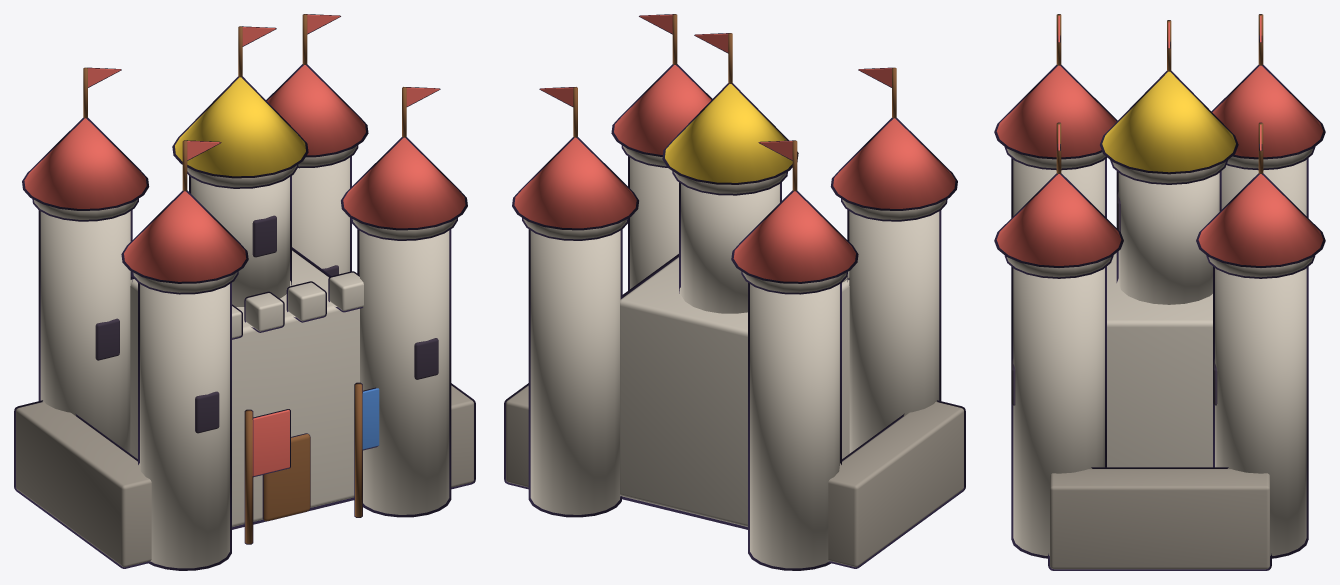
File: castle_3.glb
The picture shows the model from 3 angles, left to right: view 1: azimuth 30°, elevation 25°; view 2: azimuth 150°, elevation 25°; view 3: azimuth 270°, elevation 25°; orthographic projection.
Visible parts, largest first — view 1: tower, tower.001, box, tower.002, box.011, spire.004, spire, spire.001, spire.002, tower.004, tower.003, spire.003 (+18 smaller); view 2: box, tower.003, tower.002, tower, box.011, tower.004, spire.004, spire.002, spire.003, spire, tower.001, spire.001 (+5 smaller); view 3: box.012, tower.003, tower.001, box, tower.004, spire.004, spire.001, spire.003, spire, spire.002, tower, tower.002 (+5 smaller).
Part boxes in pixels (<box>): tower: <box>138,283,231,570</box>; tower.001: <box>357,229,451,517</box>; box: <box>130,247,359,529</box>; tower.002: <box>38,210,132,453</box>; box.011: <box>14,400,151,568</box>; spire.004: <box>172,76,308,178</box>; spire: <box>121,190,248,283</box>; spire.001: <box>341,137,467,230</box>; spire.002: <box>22,117,149,210</box>; tower.004: <box>189,176,291,307</box>; tower.003: <box>292,156,351,274</box>; spire.003: <box>266,64,368,157</box>; box: <box>620,254,849,529</box>; tower.003: <box>528,229,622,517</box>; tower.002: <box>748,283,841,570</box>; tower: <box>847,210,941,453</box>; box.011: <box>828,400,965,568</box>; tower.004: <box>679,182,781,313</box>; spire.004: <box>662,83,798,184</box>; spire.002: <box>731,190,858,283</box>; spire.003: <box>512,137,638,230</box>; spire: <box>830,117,957,210</box>; tower.001: <box>628,156,678,290</box>; spire.001: <box>611,64,712,156</box>; box.012: <box>1048,467,1271,570</box>; tower.003: <box>1213,266,1308,558</box>; tower.001: <box>1011,266,1106,558</box>; box: <box>1107,253,1212,467</box>; tower.004: <box>1116,171,1221,304</box>; spire.004: <box>1100,71,1238,174</box>; spire.001: <box>994,173,1123,267</box>; spire.003: <box>1196,173,1325,267</box>; spire: <box>994,64,1117,159</box>; spire.002: <box>1211,64,1325,159</box>; tower: <box>1011,158,1106,217</box>; tower.002: <box>1221,158,1308,217</box>.
Bounding box in the file's own units: 4.54 × 5.6 × 3.62.
